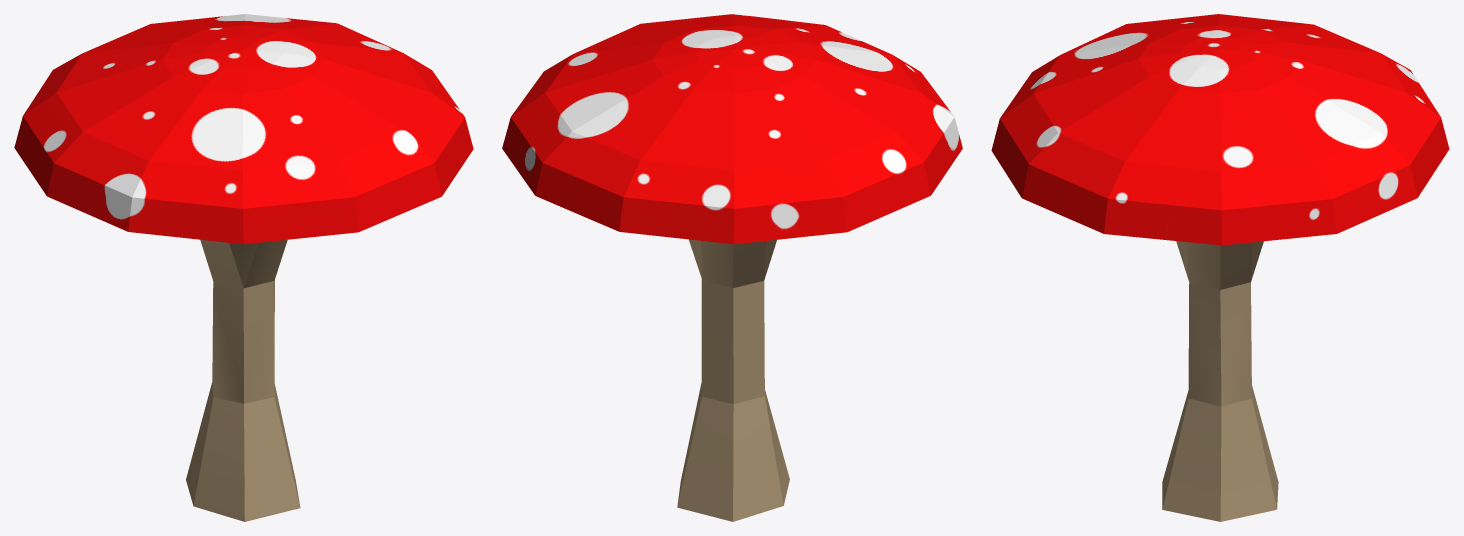
Rendered from Mushroom_chair.fbx.
The picture shows the model from 3 angles, left to right: view 1: azimuth 30°, elevation 25°; view 2: azimuth 150°, elevation 25°; view 3: azimuth 270°, elevation 25°; orthographic projection.
Visible parts, largest first — view 1: Myxomor; view 2: Myxomor; view 3: Myxomor.
Part boxes in pixels (<box>): Myxomor: <box>14,14,473,521</box>; Myxomor: <box>502,14,962,521</box>; Myxomor: <box>991,14,1449,521</box>.
Size of the model in its own units: 67.02 by 72.33 by 67.29.
